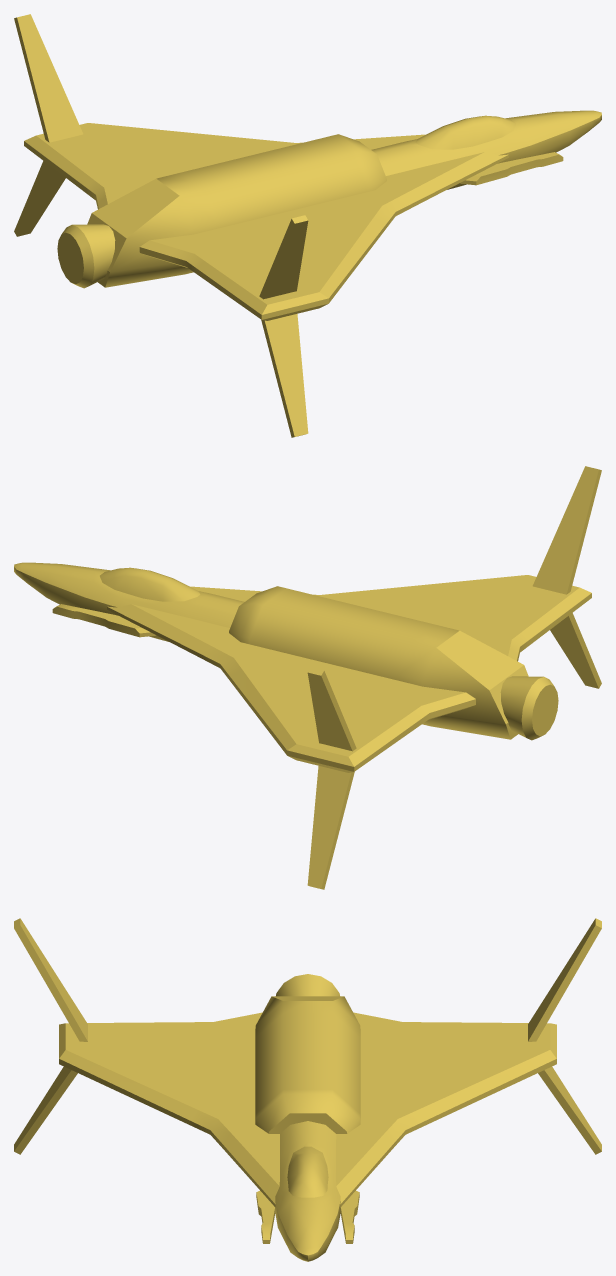
3 renders of one model, top to bottom at view 1: azimuth 30°, elevation 25°; view 2: azimuth 150°, elevation 25°; view 3: azimuth 270°, elevation 25°, orthographic. The views are drawn at different scales.
Visible parts, largest first — view 1: StarSparrow8; view 2: StarSparrow8; view 3: StarSparrow8.
Boxes of the visible parts, x1,y1,x2,y2 form: StarSparrow8: [14, 14, 601, 437]; StarSparrow8: [14, 466, 601, 889]; StarSparrow8: [14, 918, 601, 1261].
Size of the model in its own units: 513 by 203 by 470.
